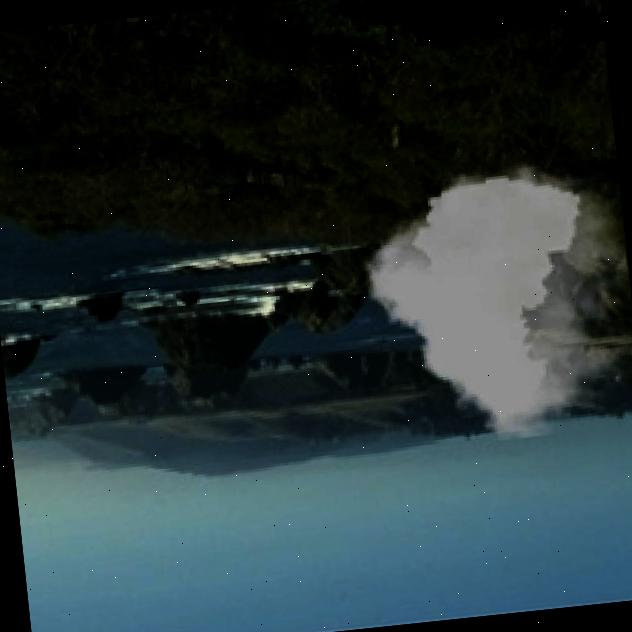smoke: (356, 152, 632, 453)
